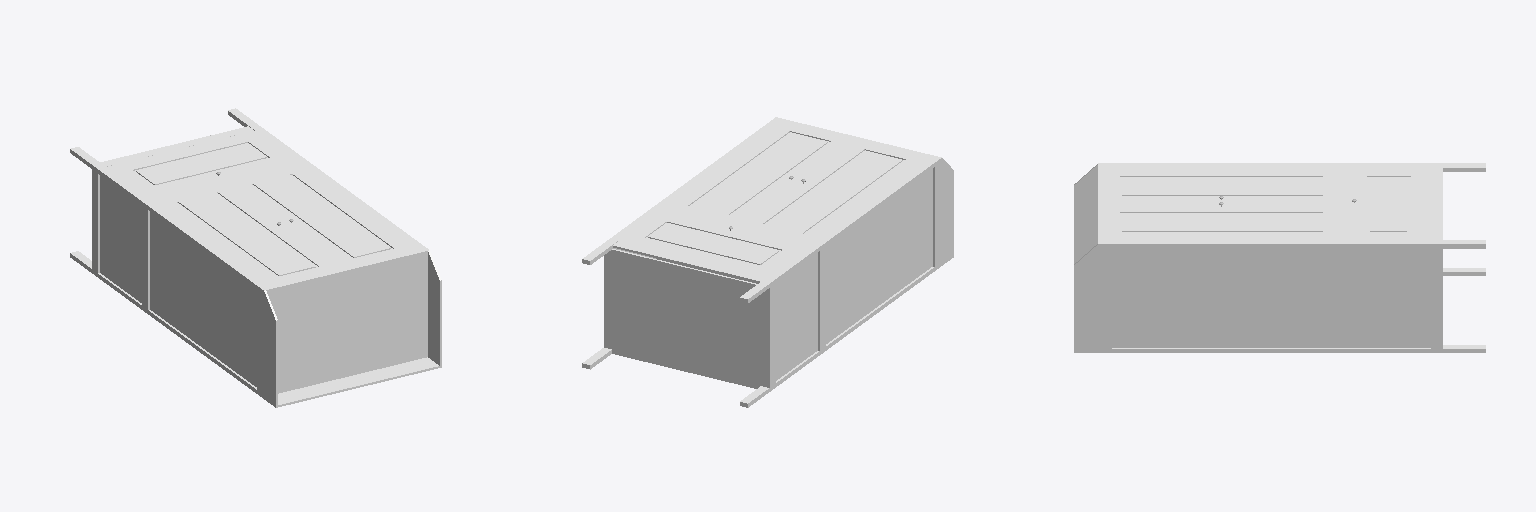
Rendered from SundvikWardrobe_white.obj.
The picture shows the model from 3 angles: view 1: azimuth 30°, elevation 25°; view 2: azimuth 150°, elevation 25°; view 3: azimuth 270°, elevation 25°; orthographic projection.
Visible parts, largest first — view 1: obj_0; view 2: obj_0; view 3: obj_0.
Part boxes in pixels (left/top/right/bottom): obj_0: left=70, top=108, right=441, bottom=407; obj_0: left=582, top=117, right=953, bottom=407; obj_0: left=1074, top=163, right=1485, bottom=352.
Bounding box in the file's own units: 80 × 52 × 172.